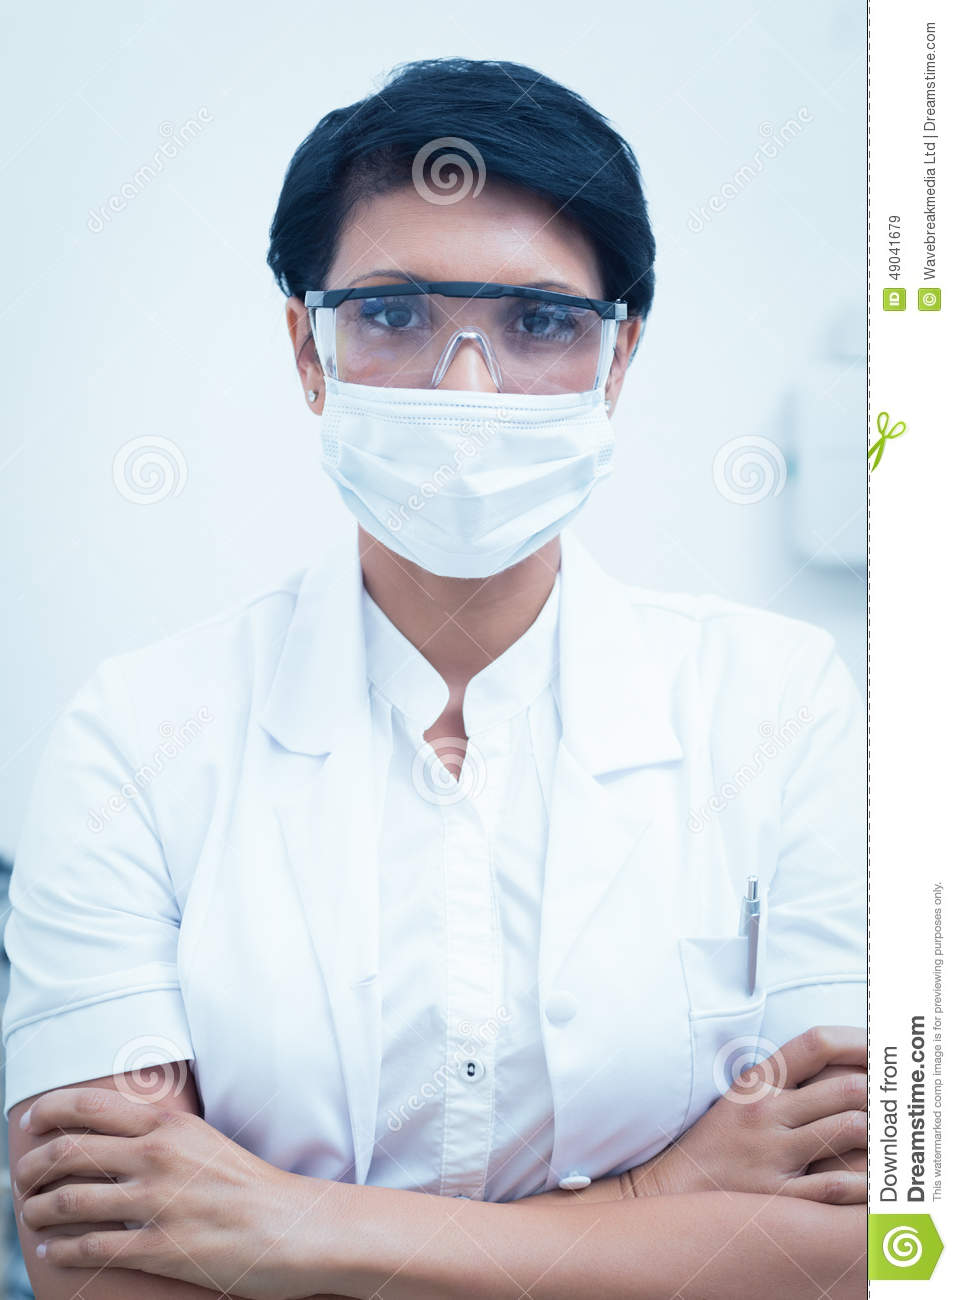mask: (318, 371, 620, 591)
